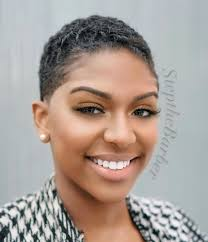person: (30, 13, 160, 205)
